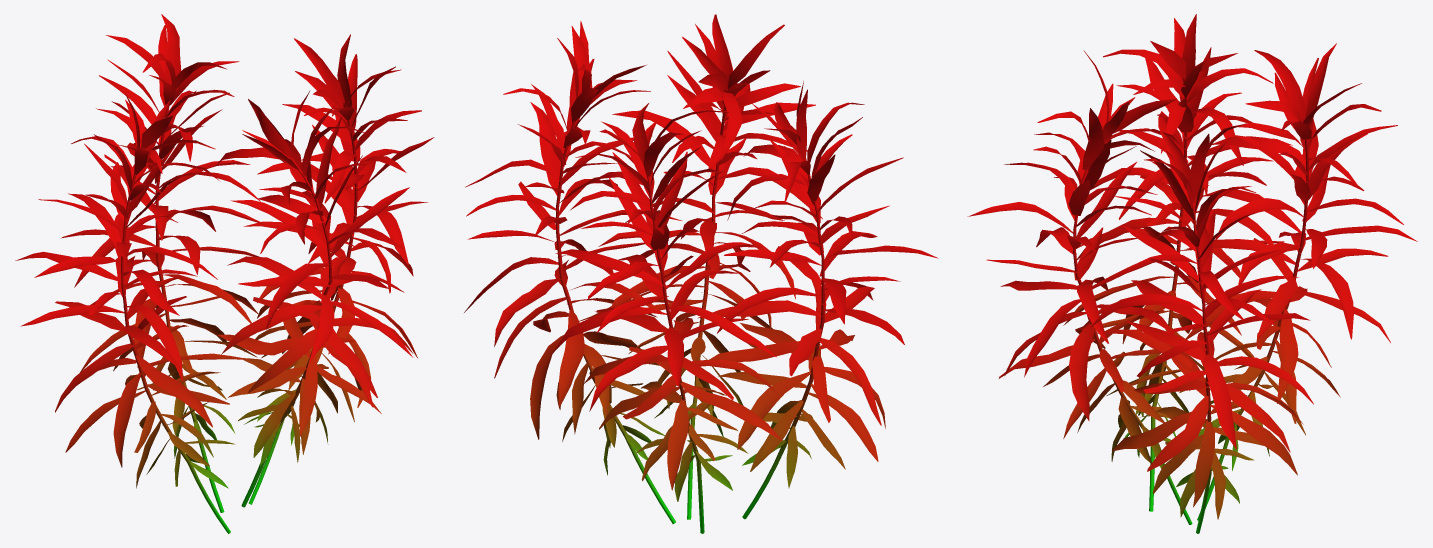
The model's file is Butterfly Weed_LOD1_Var3.fbx.
3 renders of one model, left to right at view 1: azimuth 30°, elevation 25°; view 2: azimuth 150°, elevation 25°; view 3: azimuth 270°, elevation 25°, orthographic. The views are drawn at different scales.
Visible parts, largest first — view 1: _h0zm_Var3_LOD1; view 2: _h0zm_Var3_LOD1; view 3: _h0zm_Var3_LOD1.
Boxes of the visible parts, <box> form: _h0zm_Var3_LOD1: <box>15,14,434,533</box>; _h0zm_Var3_LOD1: <box>464,14,938,533</box>; _h0zm_Var3_LOD1: <box>967,14,1417,533</box>.
Size of the model in its own units: 67.88 by 69.99 by 62.2.
